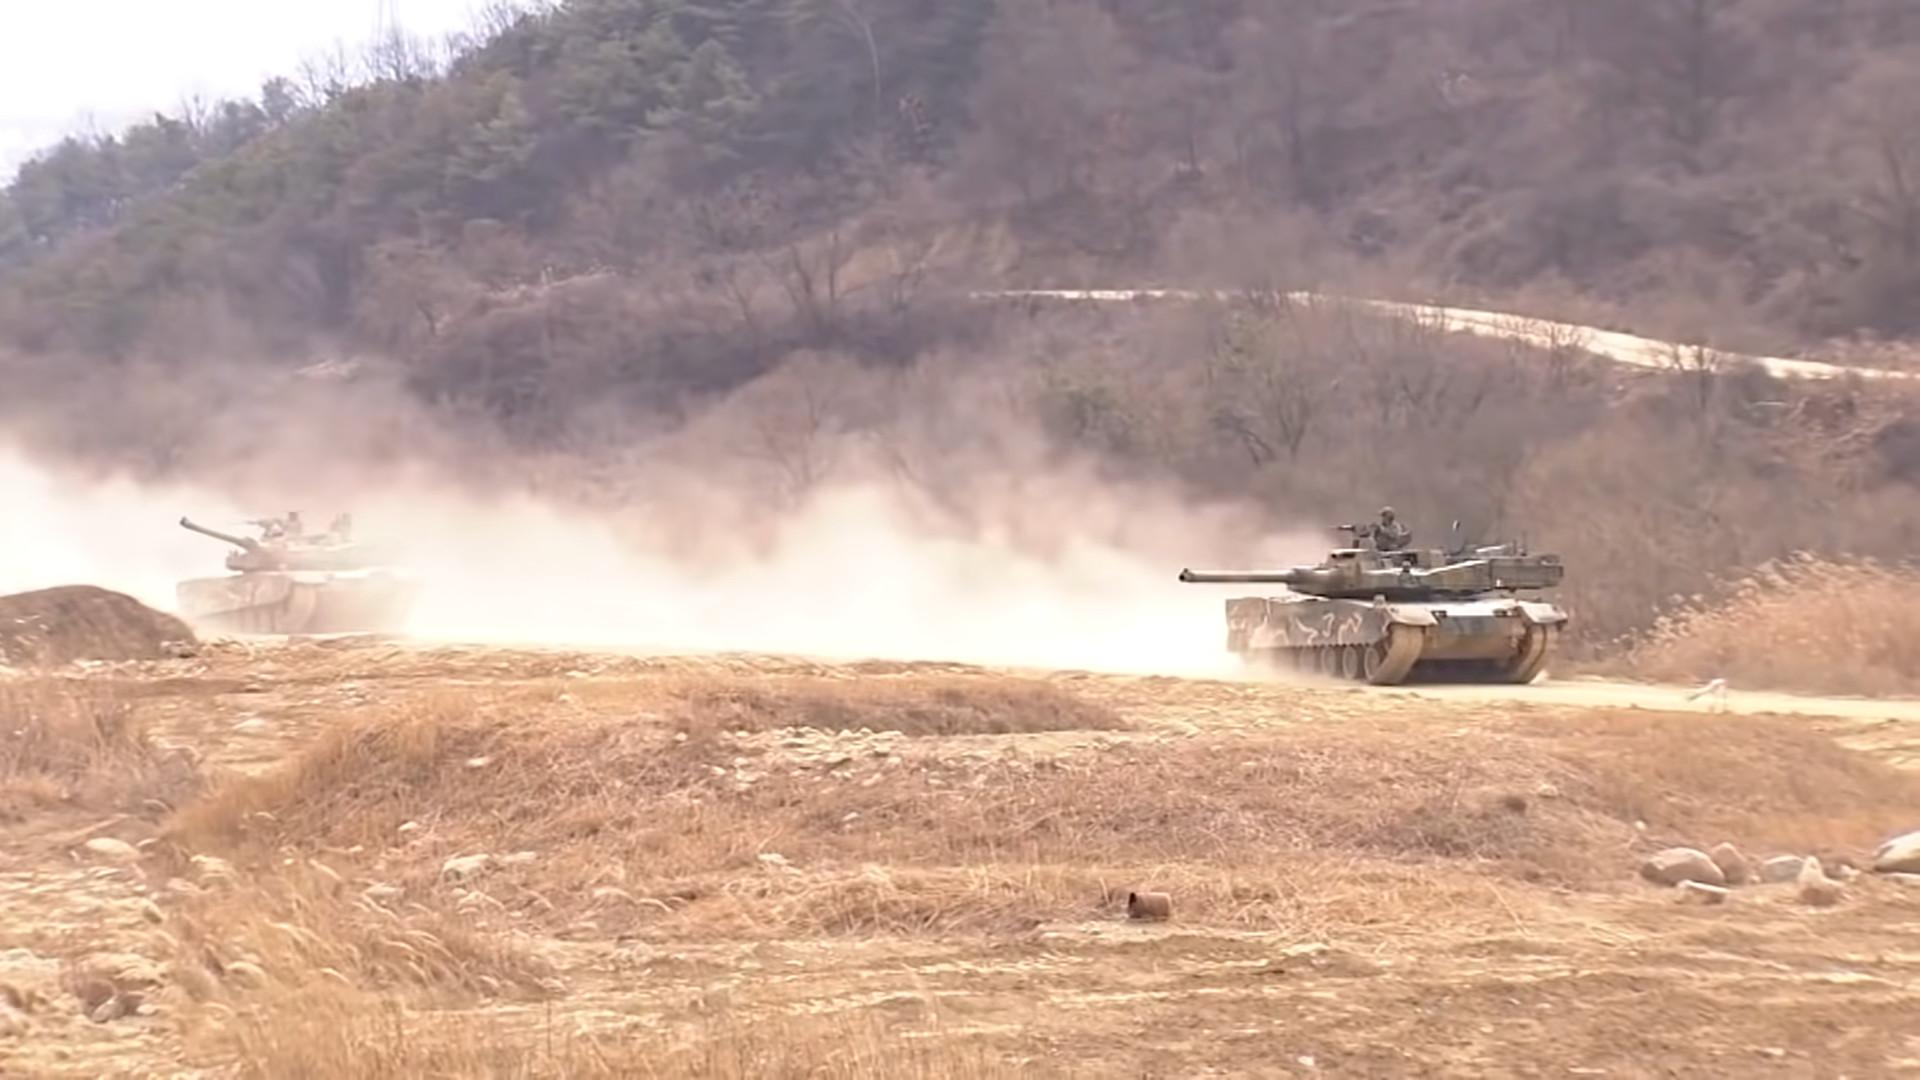tank: (1179, 521, 1569, 684), (175, 512, 419, 636)
